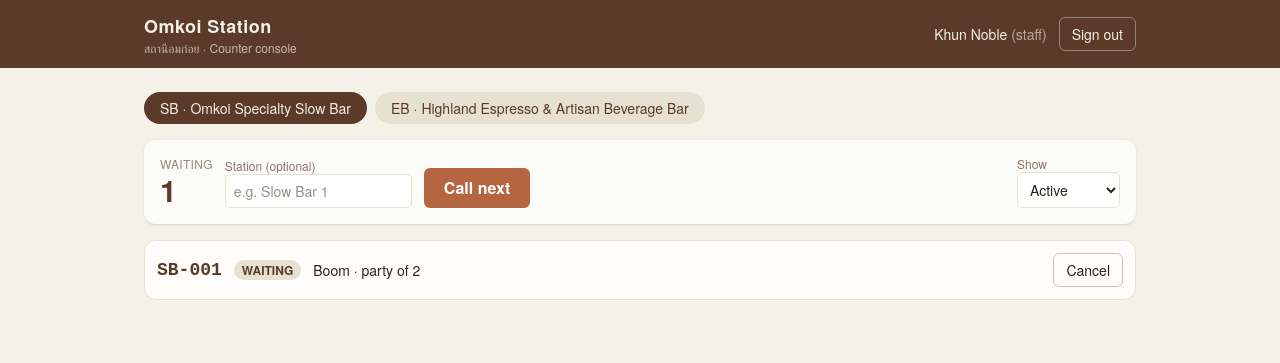
Test: TEST-14 / AC-10, NFR-05: staff counter console (component, mocked API) › shows the server's 403 message when an action is refused
This screenshot has width=1280, height=363.
Expected: the list item with aria-label "Ticket SB-001" is shown, [144,240,1136,300]
Click the button "Call next" at (477, 188), box [424,168,530,208]
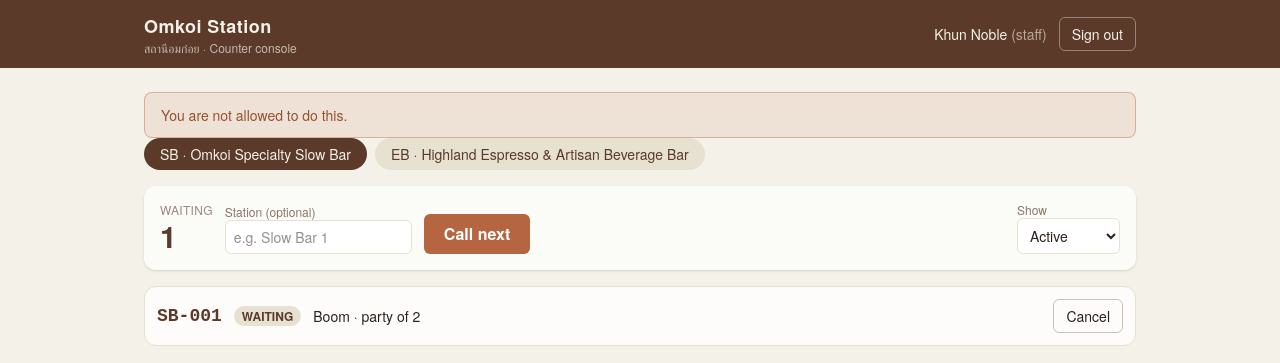
Now the message reads "You are not allowed to do this.", box [161,105,347,125]
